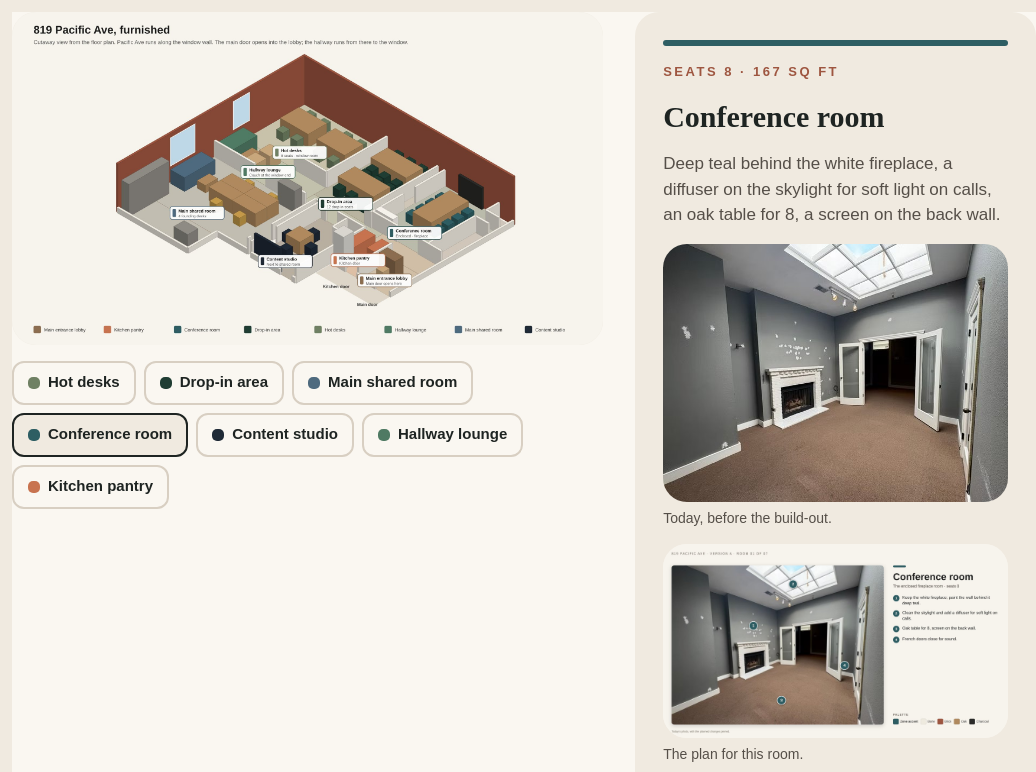
it: RoomPicker › shows the conference room first and switches rooms on click
This screenshot has width=1036, height=772.
Expected: the heading "Conference room" is shown, [663, 100, 884, 132]
Click the button "Hot desks": (74,382) [12, 360, 136, 404]
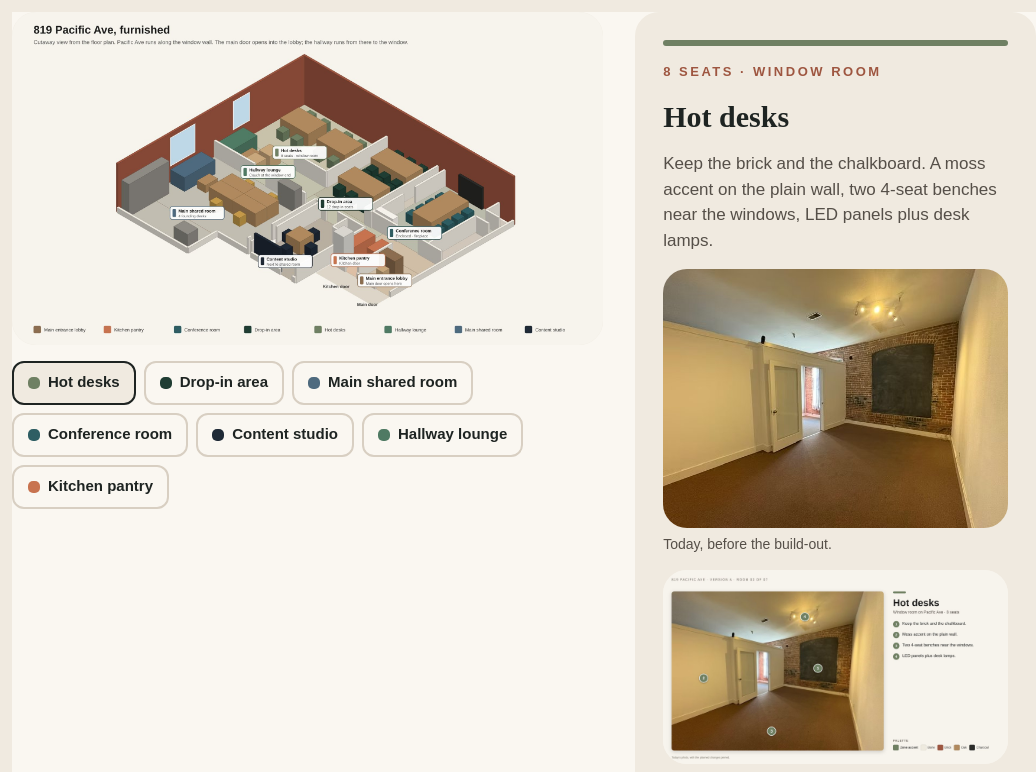
Expected: the heading "Hot desks" is shown, [663, 100, 789, 132]
